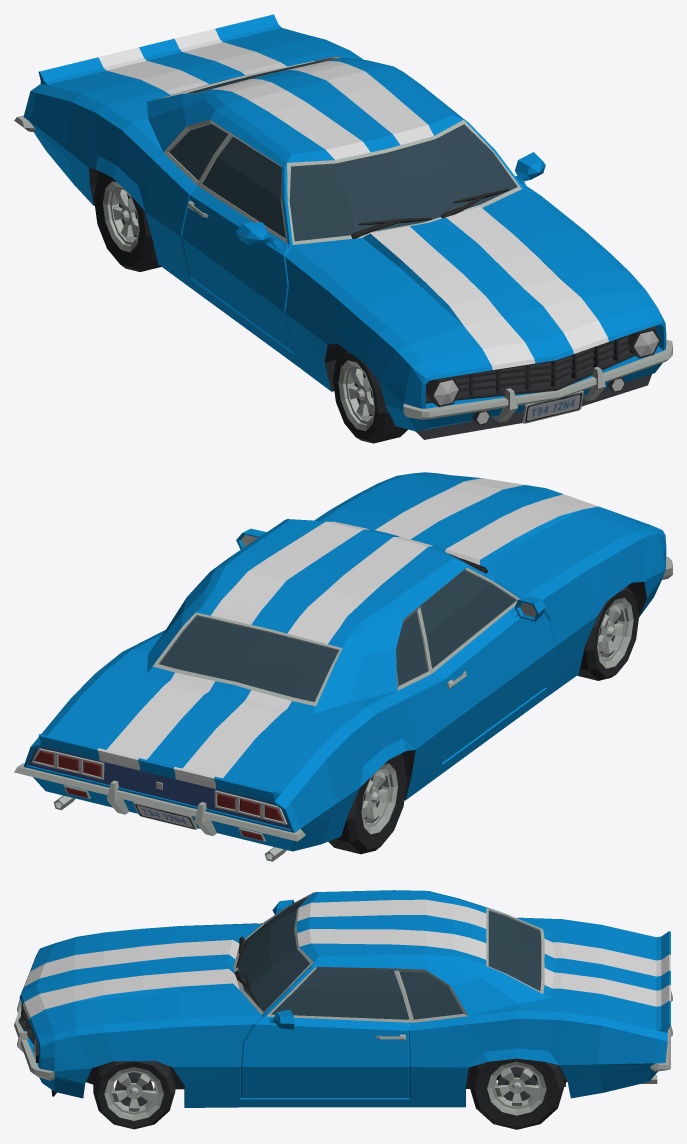
The model's file is muscle.glb.
3 views of the same model, one above another, from view 1: azimuth 30°, elevation 25°; view 2: azimuth 150°, elevation 25°; view 3: azimuth 270°, elevation 25° (orthographic). The views are drawn at different scales.
Visible parts, largest first — view 1: SM_Veh_Car_Muscle_01, SM_Veh_Car_Muscle_Glass, SM_Veh_Car_Muscle_Wheel_rr, SM_Veh_Car_Muscle_Wheel_fr, SM_Veh_Car_Muscle_Plates; view 2: SM_Veh_Car_Muscle_01, SM_Veh_Car_Muscle_Glass, SM_Veh_Car_Muscle_Wheel_rr, SM_Veh_Car_Muscle_Wheel_fr, SM_Veh_Car_Muscle_Plates; view 3: SM_Veh_Car_Muscle_01, SM_Veh_Car_Muscle_Glass, SM_Veh_Car_Muscle_Wheel_rl, SM_Veh_Car_Muscle_Wheel_fl.
Boxes of the visible parts, bbox=[...] form: SM_Veh_Car_Muscle_01: bbox=[14, 14, 672, 439]; SM_Veh_Car_Muscle_Glass: bbox=[169, 59, 516, 241]; SM_Veh_Car_Muscle_Wheel_rr: bbox=[94, 171, 161, 271]; SM_Veh_Car_Muscle_Wheel_fr: bbox=[333, 349, 407, 443]; SM_Veh_Car_Muscle_Plates: bbox=[522, 390, 583, 423]; SM_Veh_Car_Muscle_01: bbox=[14, 472, 672, 861]; SM_Veh_Car_Muscle_Glass: bbox=[159, 553, 515, 701]; SM_Veh_Car_Muscle_Wheel_rr: bbox=[328, 754, 406, 854]; SM_Veh_Car_Muscle_Wheel_fr: bbox=[577, 586, 638, 680]; SM_Veh_Car_Muscle_Plates: bbox=[133, 802, 197, 829]; SM_Veh_Car_Muscle_01: bbox=[14, 890, 672, 1107]; SM_Veh_Car_Muscle_Glass: bbox=[237, 897, 540, 1019]; SM_Veh_Car_Muscle_Wheel_rl: bbox=[469, 1058, 564, 1129]; SM_Veh_Car_Muscle_Wheel_fl: bbox=[93, 1061, 175, 1129].
Bounding box in the file's own units: 1.94 × 1.19 × 4.5.
3 materials, 1 textured.
